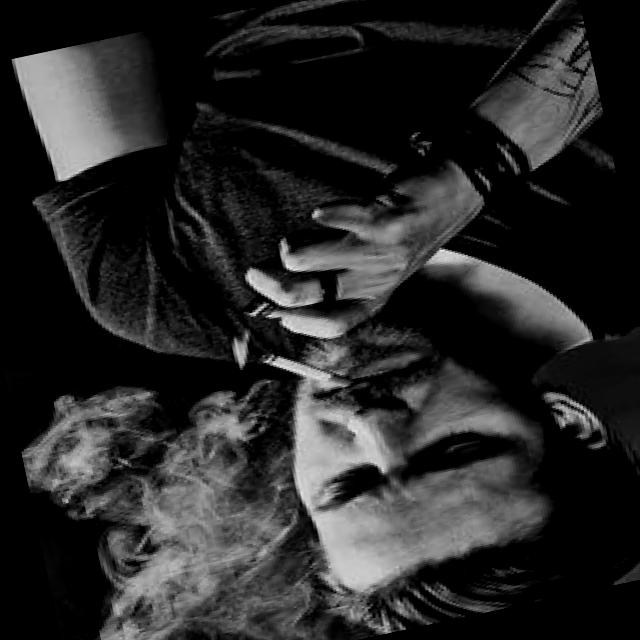cigarette: (250, 326, 364, 408)
